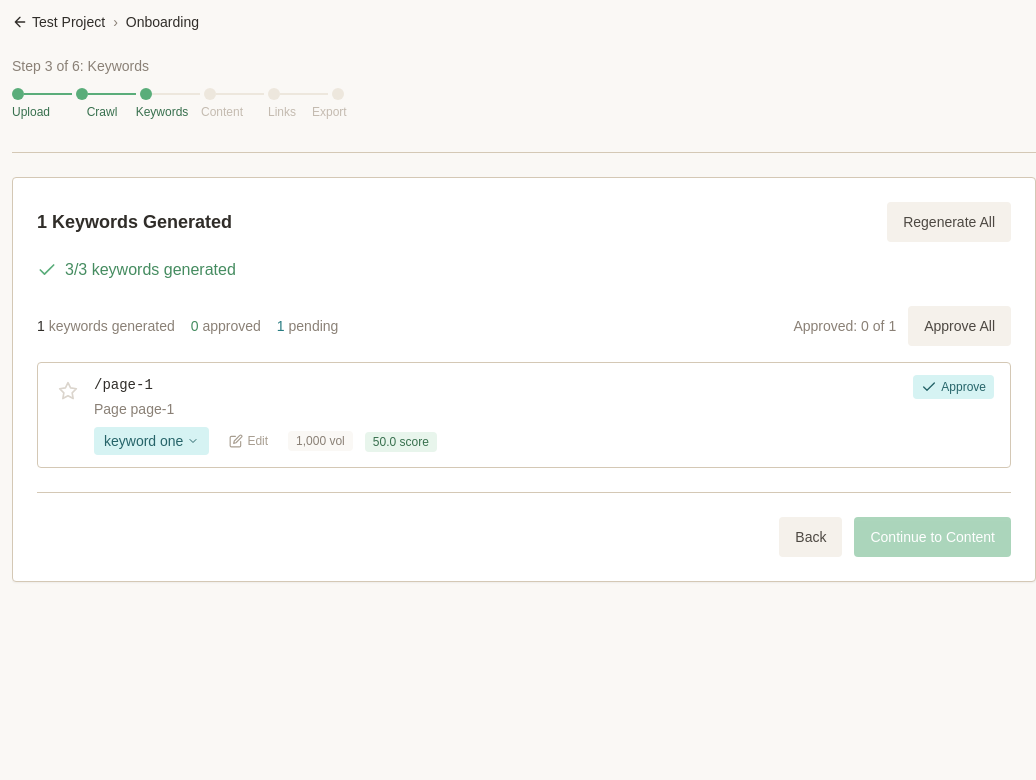
Keywords Page - Integration Tests › approve all flow › shows error toast when Approve All fails
Click the button "Approve All" at (960, 326), box [908, 306, 1011, 346]
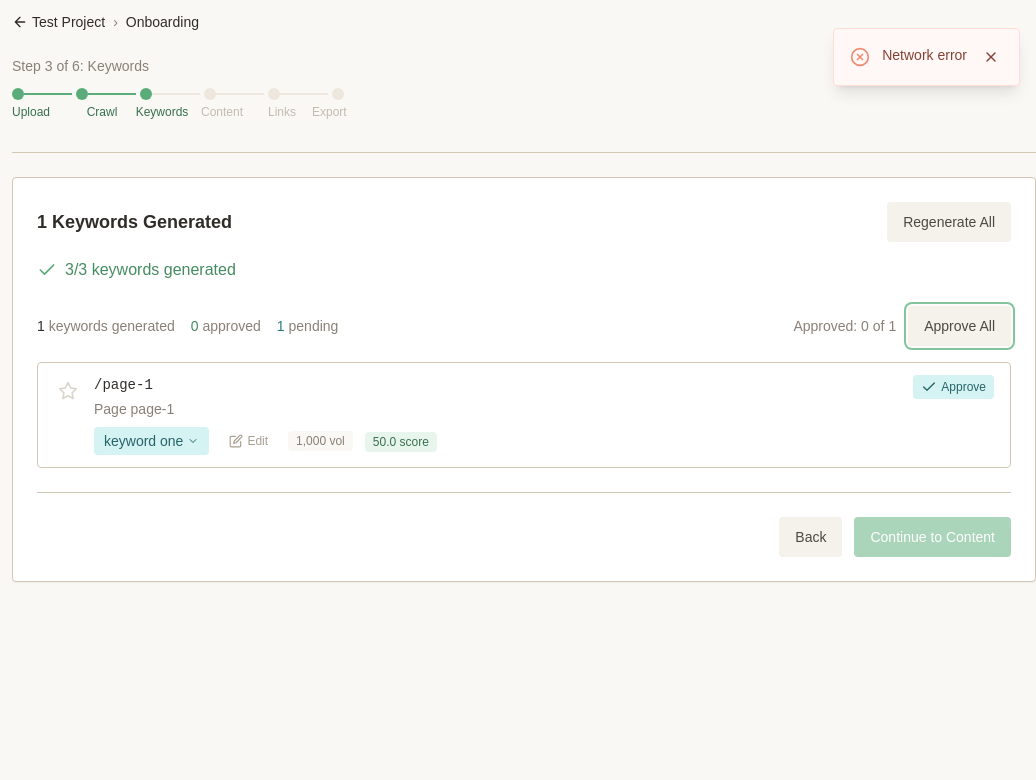
Expected: the text "Network error" is shown, [882, 45, 967, 65]
